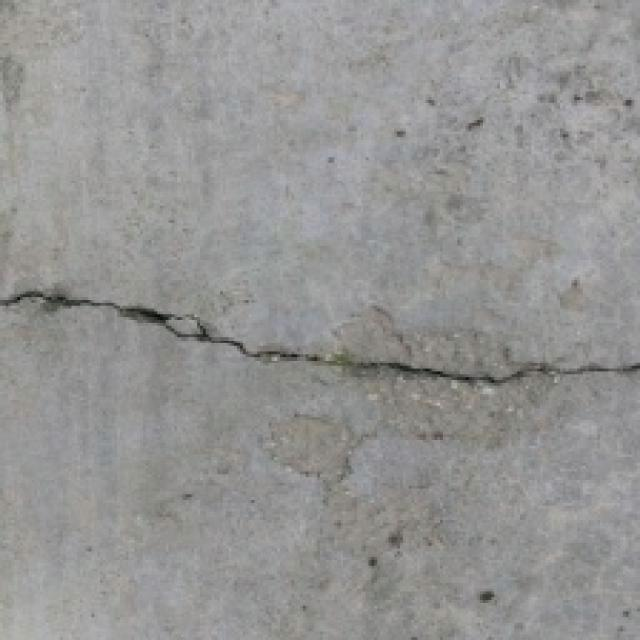crack: (0, 260, 640, 426)
